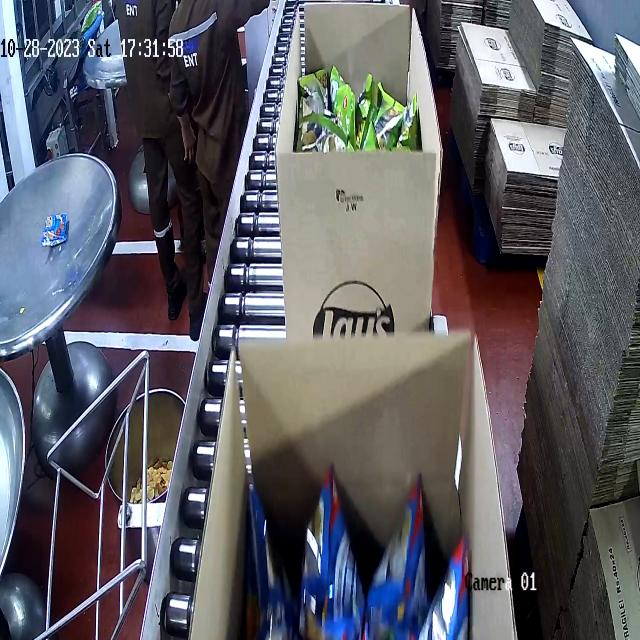PAPRIKA: (249, 456, 470, 640)
YOGURT_HERB: (301, 51, 420, 151)
